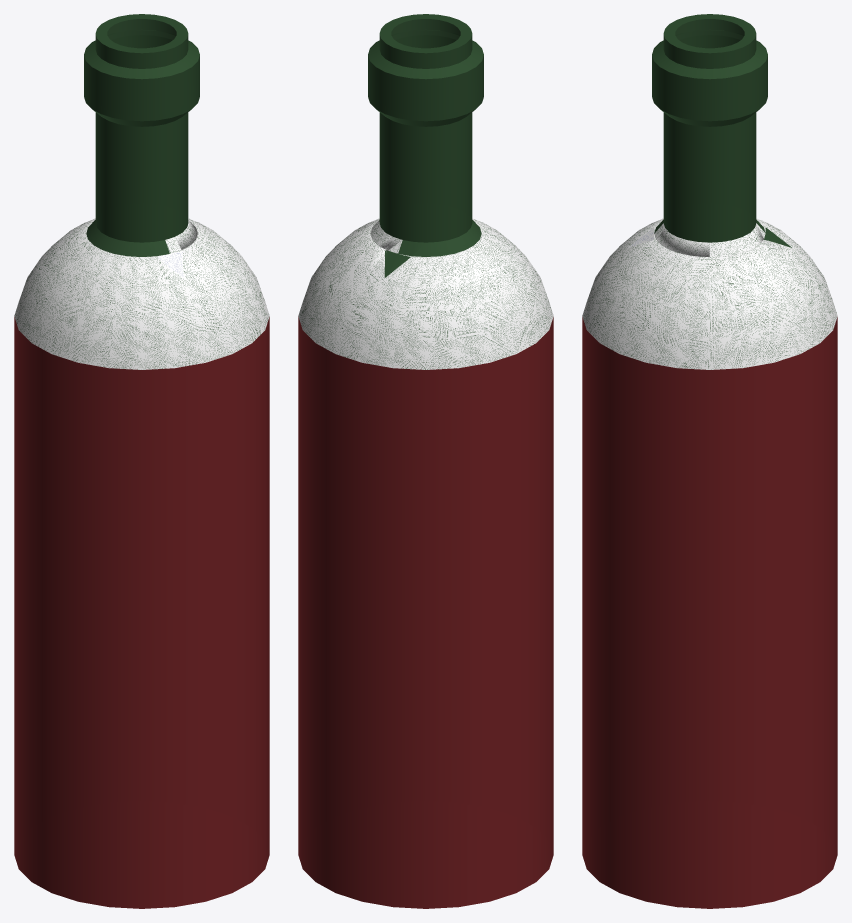
3 renders of one model, left to right at view 1: azimuth 30°, elevation 25°; view 2: azimuth 150°, elevation 25°; view 3: azimuth 270°, elevation 25°, orthographic.
Visible parts, largest first — view 1: SketchUp (×4); view 2: SketchUp (×4); view 3: SketchUp (×4).
Part boxes in pixels (left/top/right/bottom): SketchUp (×4): left=14, top=14, right=269, bottom=908; SketchUp (×4): left=298, top=14, right=553, bottom=908; SketchUp (×4): left=582, top=14, right=837, bottom=908.
Bounding box in the file's own units: 5.5 × 5.5 × 19.52.
